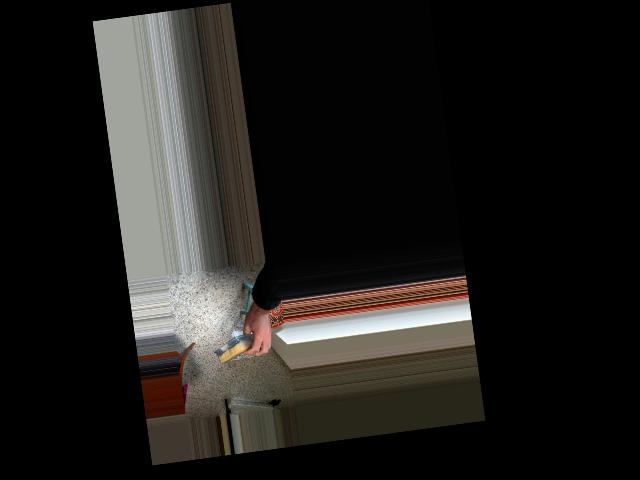cheese: (209, 328, 274, 364)
